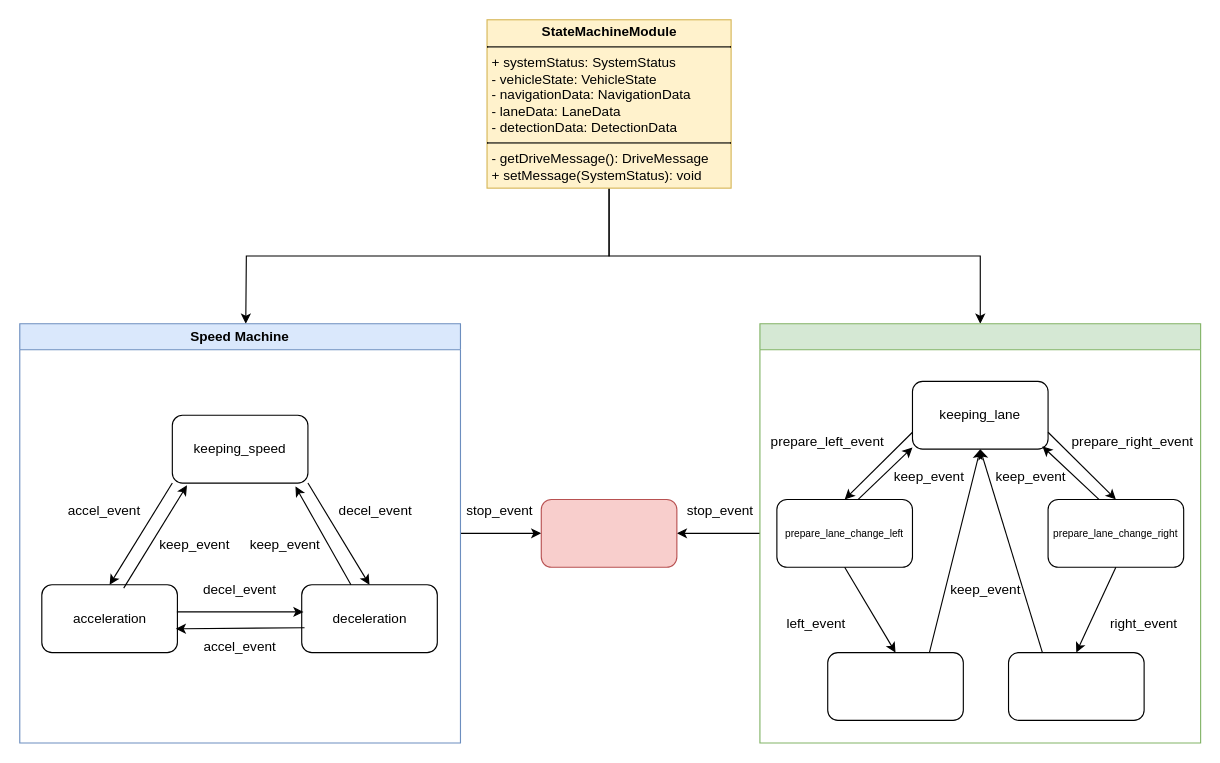
Image size: 1220x763. Some labels were removed from this diagram. Each missing label, with the box of its shape:
Emergency Stop: (540, 498, 677, 567)
Lane Machine: (759, 323, 1201, 743)
lane_change_left: (827, 651, 963, 720)
lane_change_right: (1007, 651, 1144, 720)
